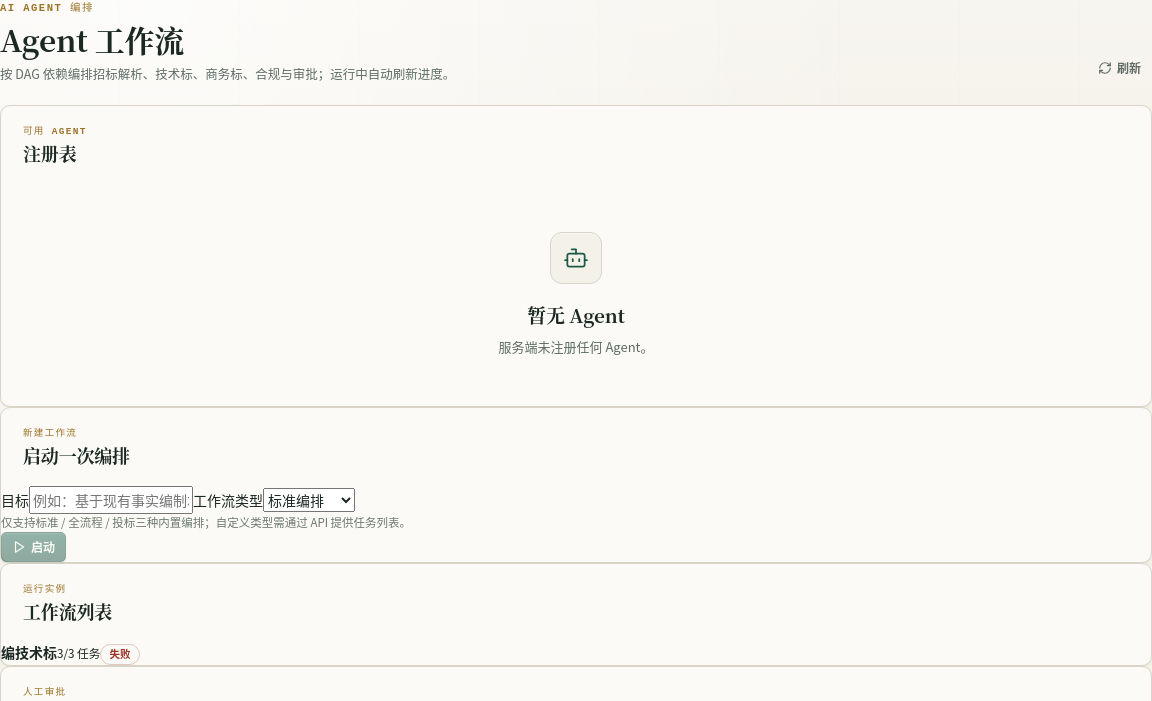
Test: AgentsTab 交互修复 › 详情加载失败时显示错误卡片并可重试
Click the text "编技术标": (29, 652) x1=1 y1=642 x2=57 y2=662
(page scrolled)
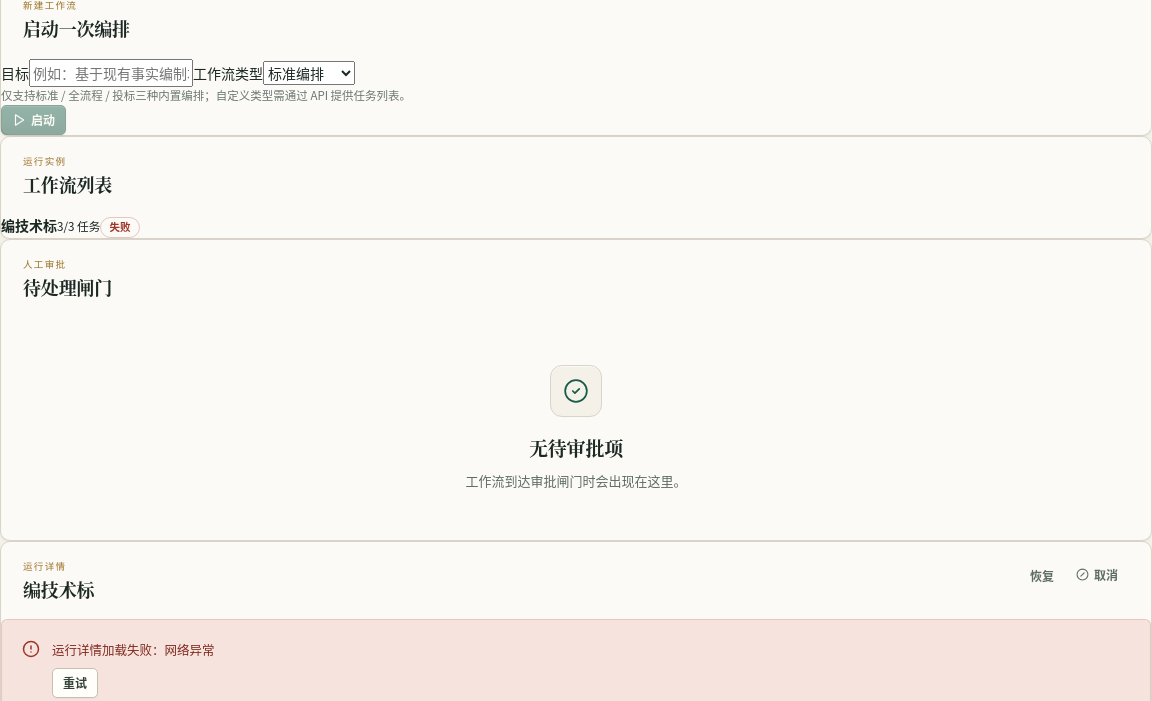
Expected: the text "parse" is not shown
Now the message shows "运行详情加载失败：网络异常", box x1=52 y1=640 x2=214 y2=659
Click the button "重试": (75, 683) x1=52 y1=668 x2=98 y2=698
(page scrolled)
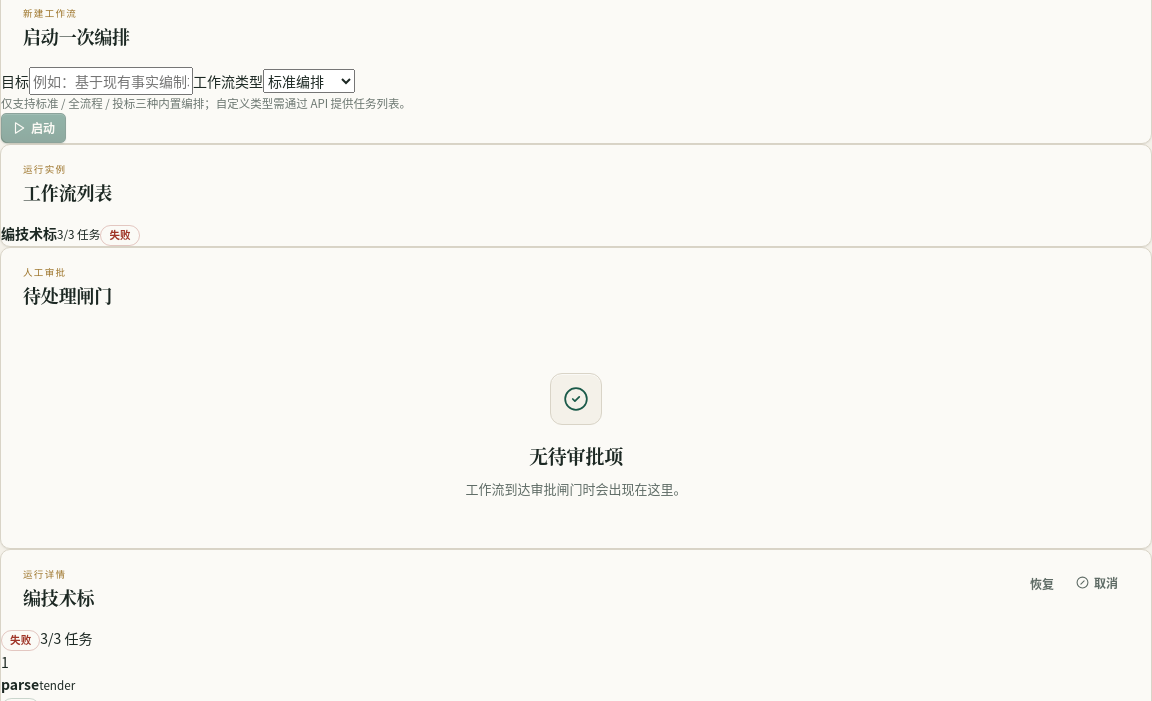
Now the text "parse" is shown, box x1=1 y1=674 x2=39 y2=694
